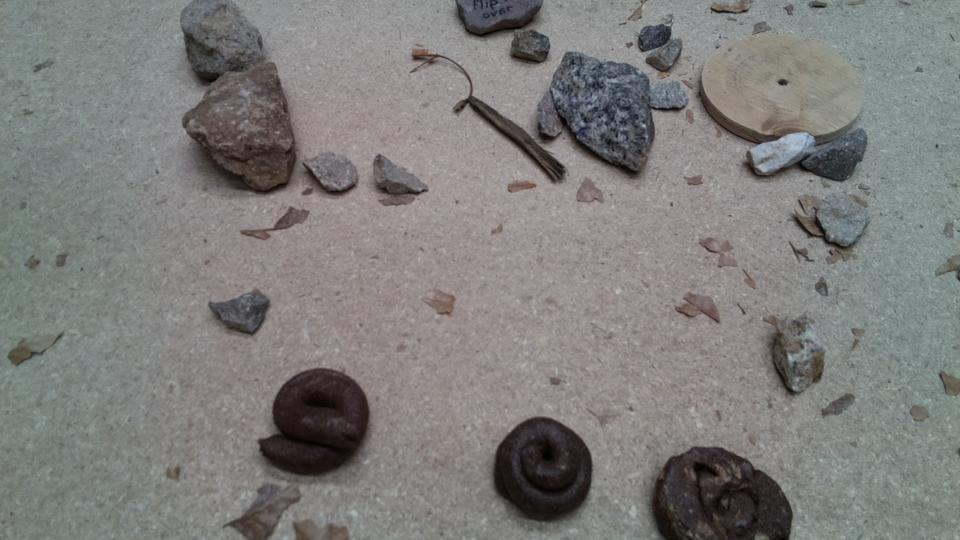poop: (651, 442, 795, 540), (255, 365, 373, 474), (491, 413, 594, 525)
